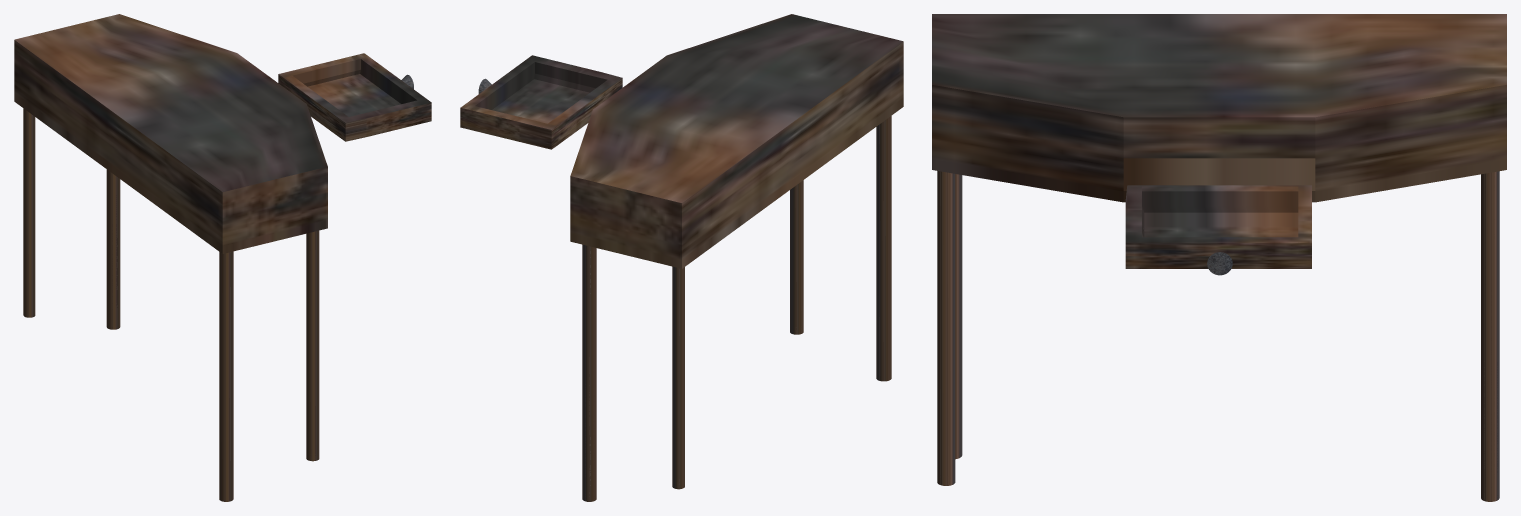
File: desk.glb
3 renders of one model, left to right at view 1: azimuth 30°, elevation 25°; view 2: azimuth 150°, elevation 25°; view 3: azimuth 270°, elevation 25°, orthographic. The views are drawn at different scales.
Visible parts, largest first — view 1: Desk-col, drawer-col, leg2-col, leg3-col, leg4-col, leg1-col; view 2: Desk-col, drawer-col, leg2-col, leg1-col, leg4-col, leg3-col; view 3: Desk-col, drawer-col, leg1-col, leg3-col, leg2-col.
Boxes of the visible parts, x1,y1,x2,y2 form: Desk-col: [14, 14, 327, 253]; drawer-col: [278, 53, 431, 141]; leg2-col: [219, 251, 233, 501]; leg3-col: [306, 230, 319, 461]; leg4-col: [23, 108, 35, 317]; leg1-col: [106, 169, 120, 329]; Desk-col: [570, 14, 903, 268]; drawer-col: [460, 55, 622, 149]; leg2-col: [876, 116, 891, 381]; leg1-col: [582, 244, 596, 501]; leg4-col: [672, 266, 684, 489]; leg3-col: [790, 180, 803, 334]; Desk-col: [932, 14, 1506, 202]; drawer-col: [1125, 185, 1311, 268]; leg1-col: [1481, 171, 1499, 501]; leg3-col: [937, 171, 955, 485]; leg2-col: [955, 174, 962, 459].
Bounding box in the file's own units: 2.82 × 2.91 × 3.5.
Materials: 7 (7 with a texture image).
